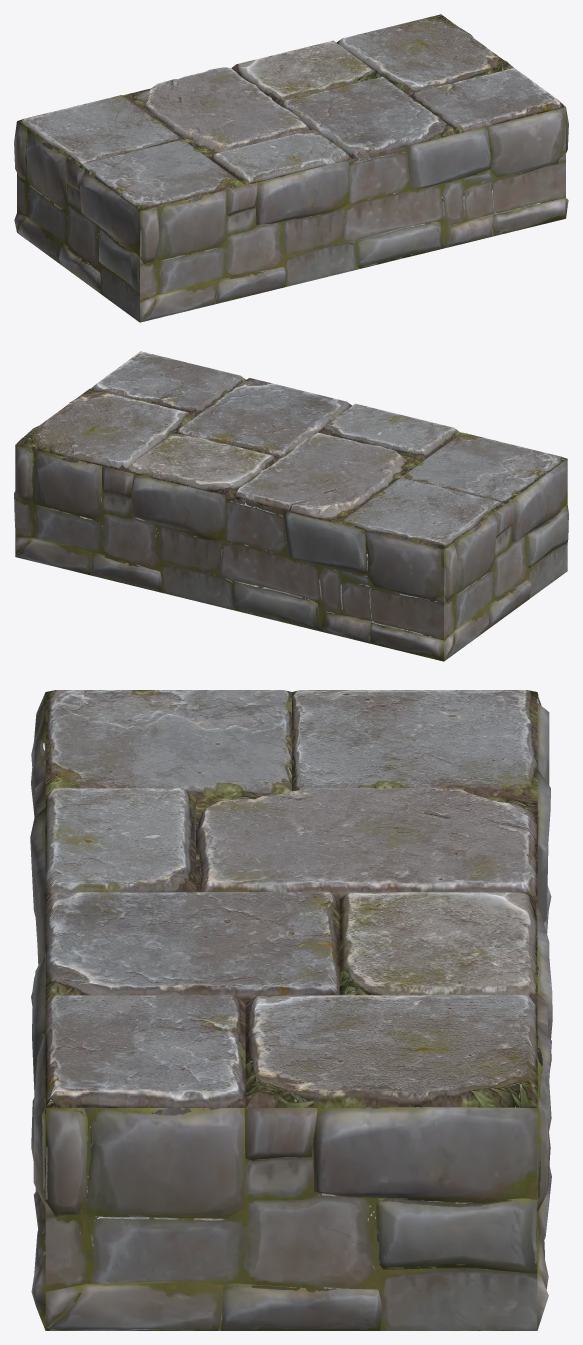
The picture shows the model from 3 angles, top to bottom: view 1: azimuth 30°, elevation 25°; view 2: azimuth 150°, elevation 25°; view 3: azimuth 270°, elevation 25°; orthographic projection. The views are drawn at different scales.
Parts seen in each view (by area): view 1: SM_Castle_Floor_4x2_01_v2_LOD0; view 2: SM_Castle_Floor_4x2_01_v2_LOD0; view 3: SM_Castle_Floor_4x2_01_v2_LOD0.
Boxes of the visible parts, x1,y1,x2,y2 form: SM_Castle_Floor_4x2_01_v2_LOD0: (14, 14, 568, 322); SM_Castle_Floor_4x2_01_v2_LOD0: (14, 351, 568, 661); SM_Castle_Floor_4x2_01_v2_LOD0: (30, 690, 552, 1330).
Bounding box in the file's own units: 4.12 × 1.05 × 2.12.
Materials: 2 (2 with a texture image).
